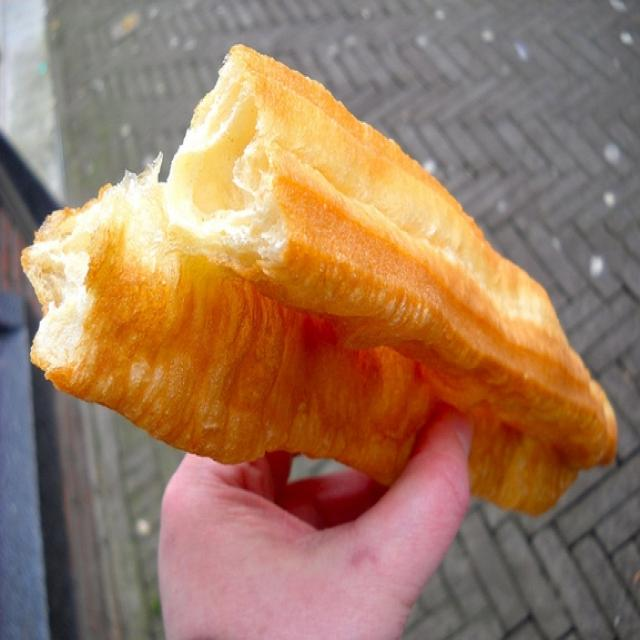炸货点心: (21, 61, 629, 524)
